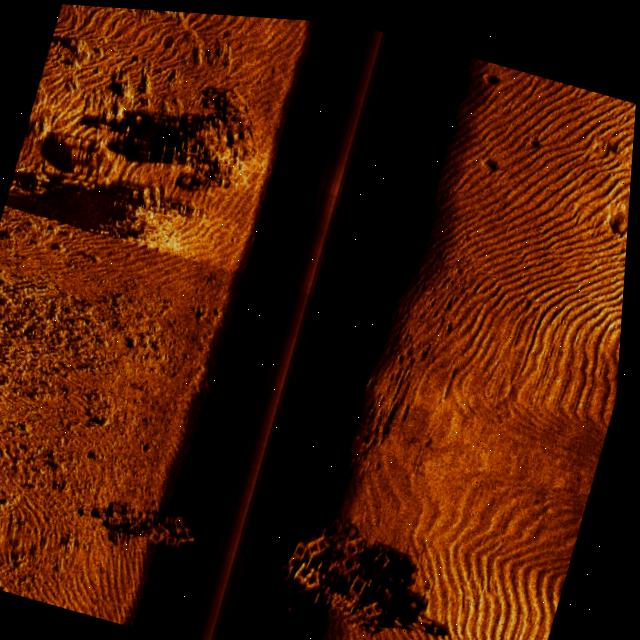artificial reef: (278, 496, 418, 636), (105, 478, 216, 563)
